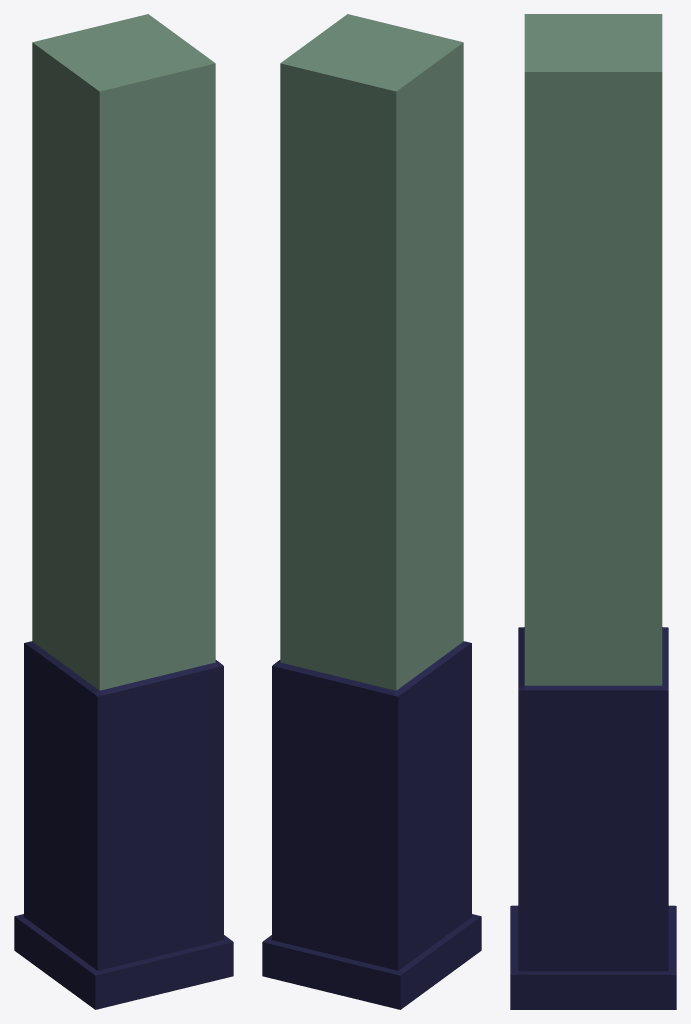
Rendered from pillar.fbx.
3 renders of one model, left to right at view 1: azimuth 30°, elevation 25°; view 2: azimuth 150°, elevation 25°; view 3: azimuth 270°, elevation 25°, orthographic. The views are drawn at different scales.
Parts seen in each view (by area): view 1: Cube.003; view 2: Cube.003; view 3: Cube.003.
Boxes of the visible parts, bbox=[...] form: Cube.003: bbox=[14, 14, 233, 1009]; Cube.003: bbox=[262, 14, 481, 1009]; Cube.003: bbox=[510, 14, 676, 1009].
Bounding box in the file's own units: 47.68 × 300 × 48.5.
